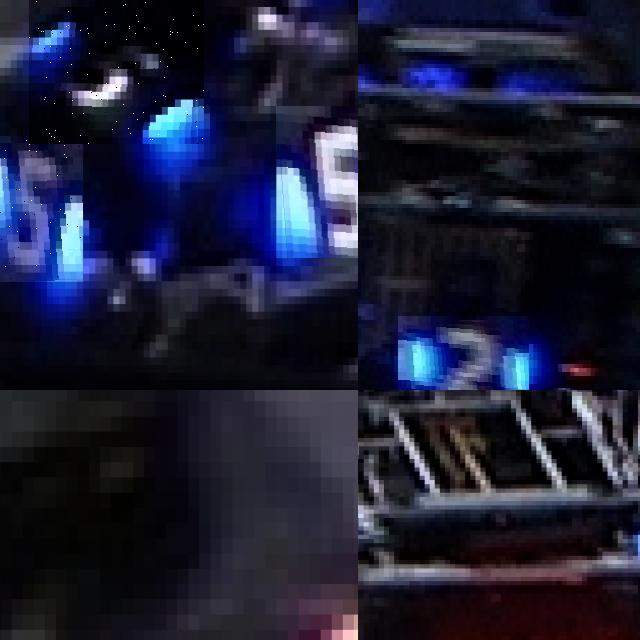B2: (397, 316, 529, 390)
B5: (29, 0, 204, 144), (276, 105, 358, 258), (0, 136, 83, 281)
